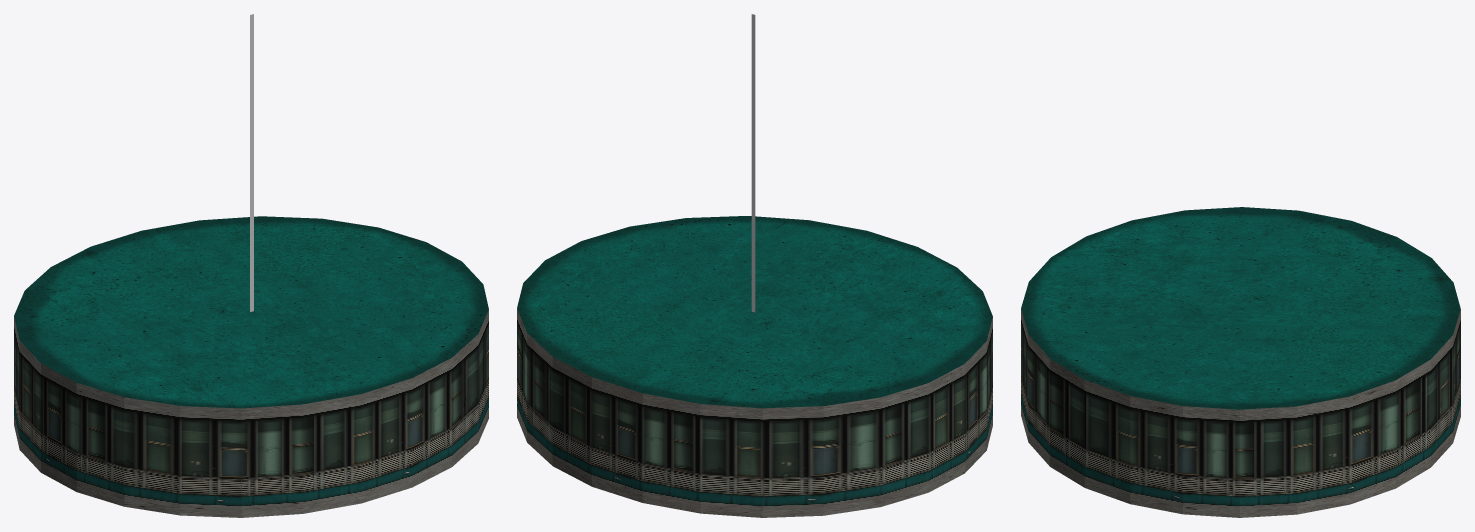
Rendered from building 2 top.FBX.
The picture shows the model from 3 angles, left to right: view 1: azimuth 30°, elevation 25°; view 2: azimuth 150°, elevation 25°; view 3: azimuth 270°, elevation 25°; orthographic projection.
Visible parts, largest first — view 1: Group11, building03; view 2: Group11, building03; view 3: Group11.
Part boxes in pixels (<box>): Group11: <box>14,216,488,517</box>; building03: <box>250,14,253,311</box>; Group11: <box>517,216,992,517</box>; building03: <box>751,14,755,312</box>; Group11: <box>1021,207,1460,517</box>.
Bounding box in the file's own units: 314 × 292 × 288.
